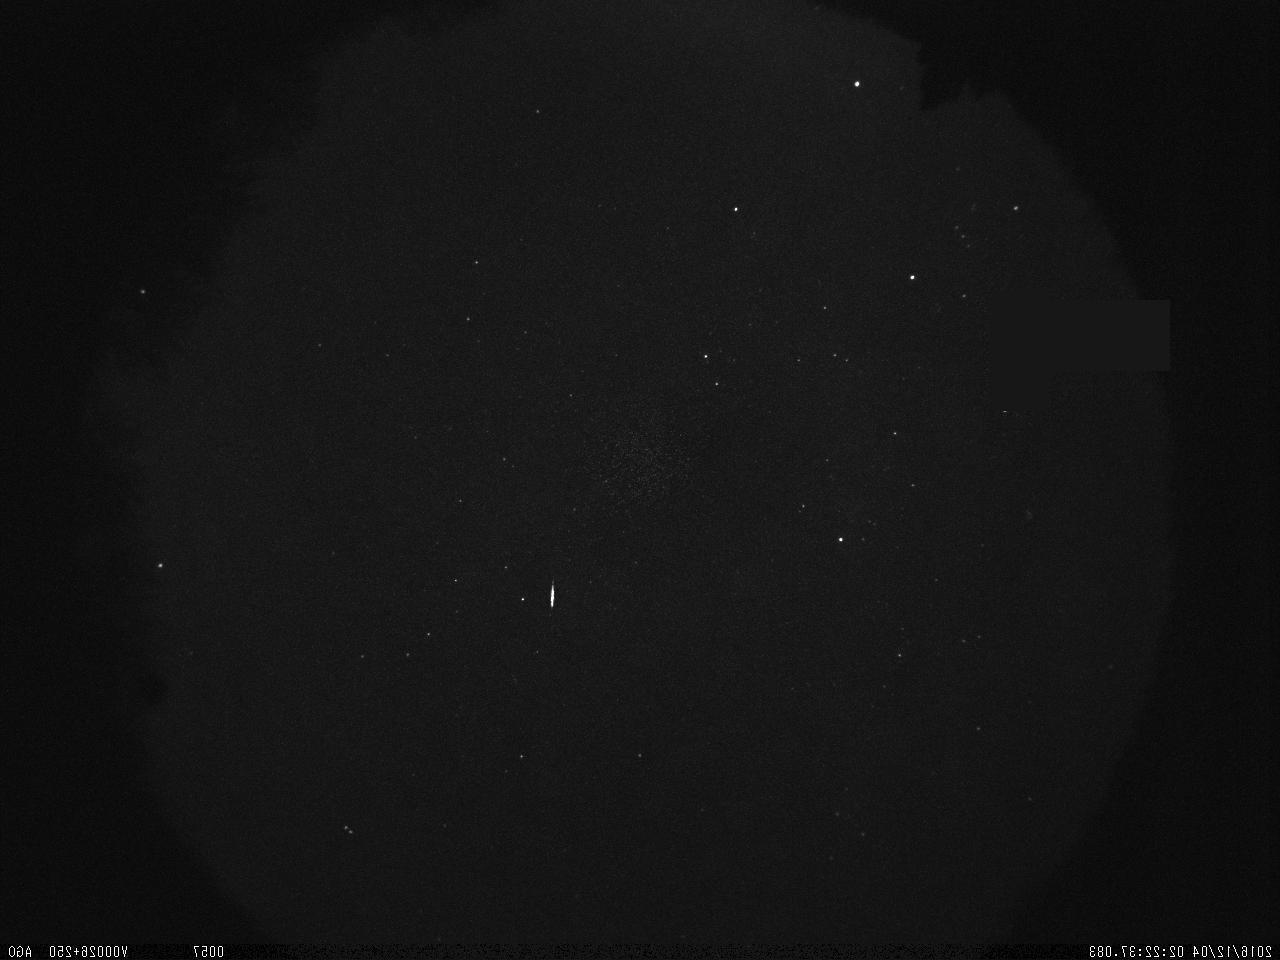meteor: (534, 566, 577, 626)
